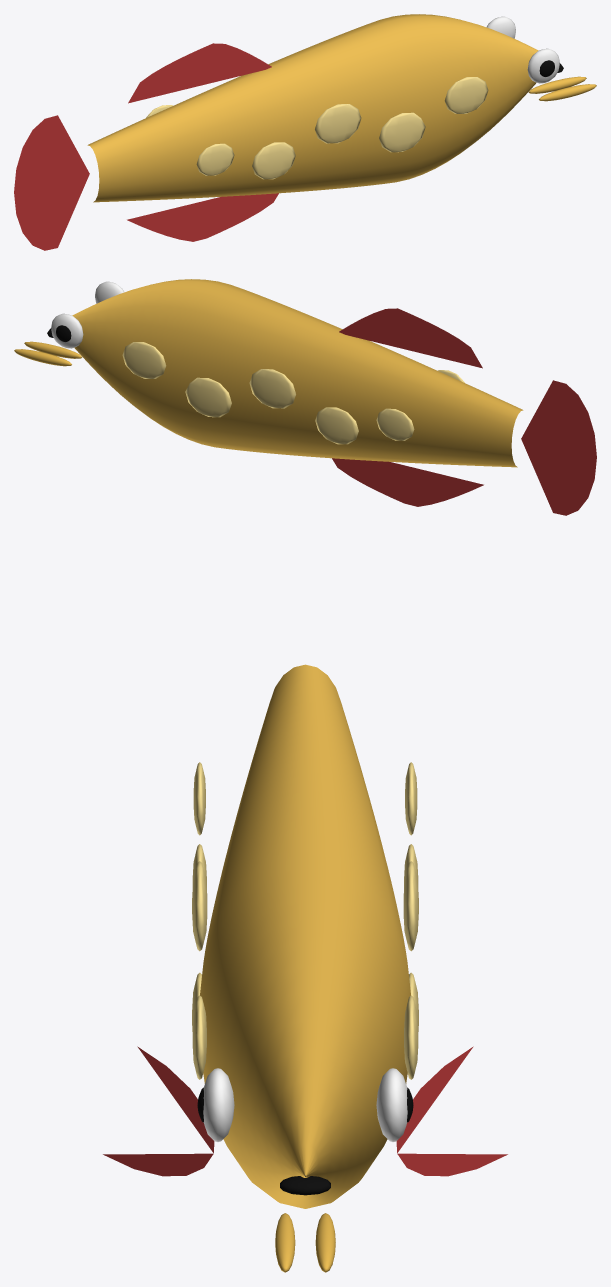
Rendered from arowana.glb.
The picture shows the model from 3 angles, top to bottom: view 1: azimuth 30°, elevation 25°; view 2: azimuth 150°, elevation 25°; view 3: azimuth 270°, elevation 25°; orthographic projection. The views are drawn at different scales.
Visible parts, largest first — view 1: arowana; view 2: arowana; view 3: arowana.
Boxes of the visible parts, left/top/right/bottom form: arowana: left=14, top=14, right=596, bottom=250; arowana: left=14, top=279, right=596, bottom=515; arowana: left=103, top=664, right=507, bottom=1272.
Bounding box in the file's own units: 1.98 × 0.6341 × 0.6022.
